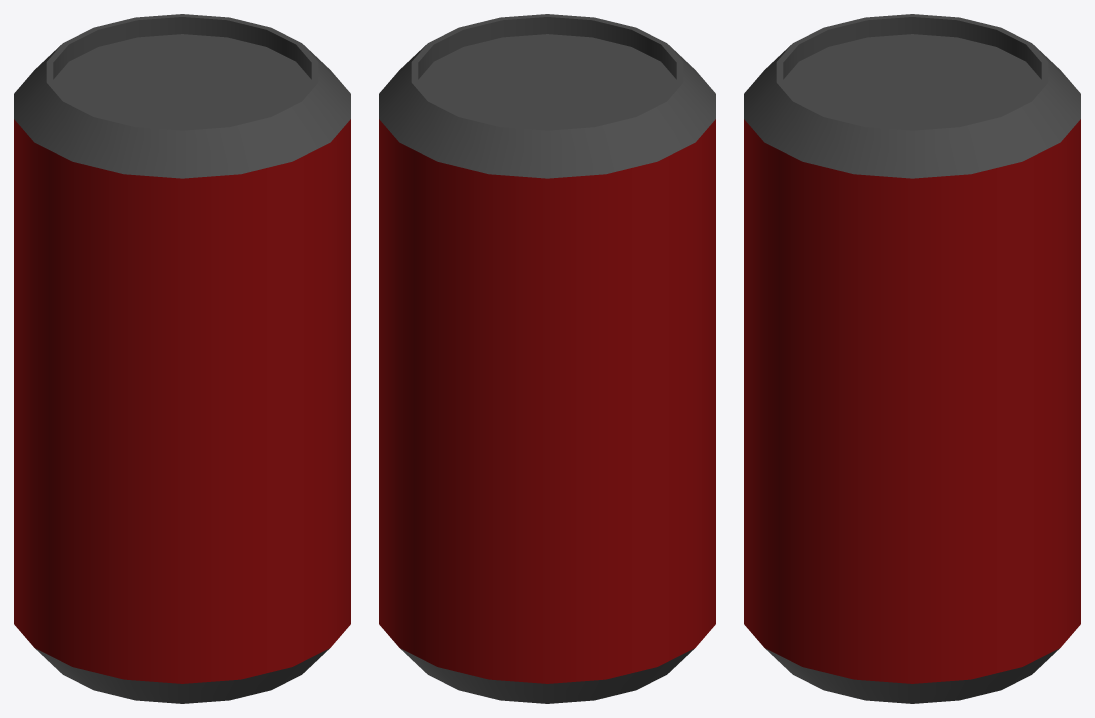
File: Can.FBX
The picture shows the model from 3 angles, left to right: view 1: azimuth 30°, elevation 25°; view 2: azimuth 150°, elevation 25°; view 3: azimuth 270°, elevation 25°; orthographic projection.
Parts seen in each view (by area): view 1: Cylinder002; view 2: Cylinder002; view 3: Cylinder002.
Part boxes in pixels (<box>): Cylinder002: <box>14,14,350,703</box>; Cylinder002: <box>379,14,715,703</box>; Cylinder002: <box>744,14,1080,703</box>.
Size of the model in its own units: 2.98 by 5.51 by 2.94.
